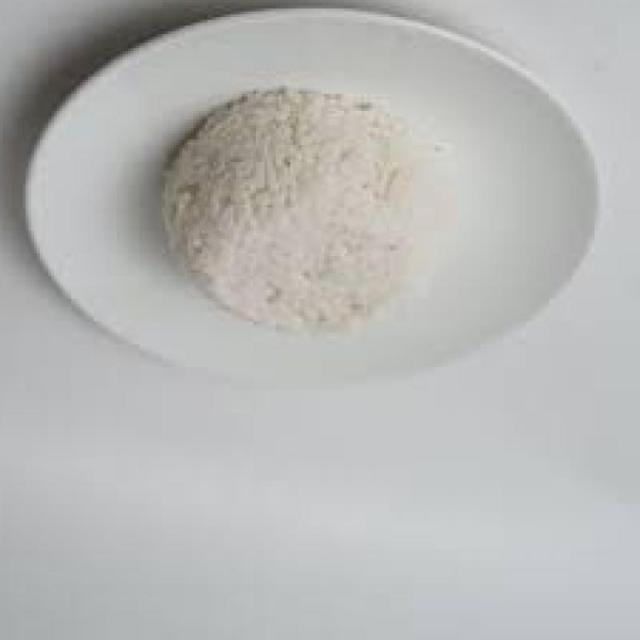nasi_putih: (159, 86, 451, 337)
